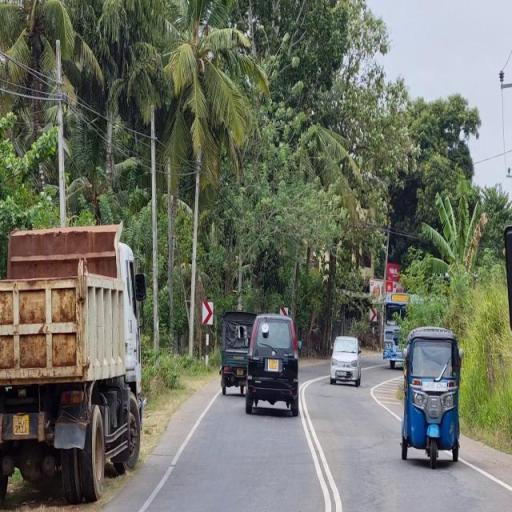double_white_line: (298, 373, 341, 510), (371, 374, 403, 421)
